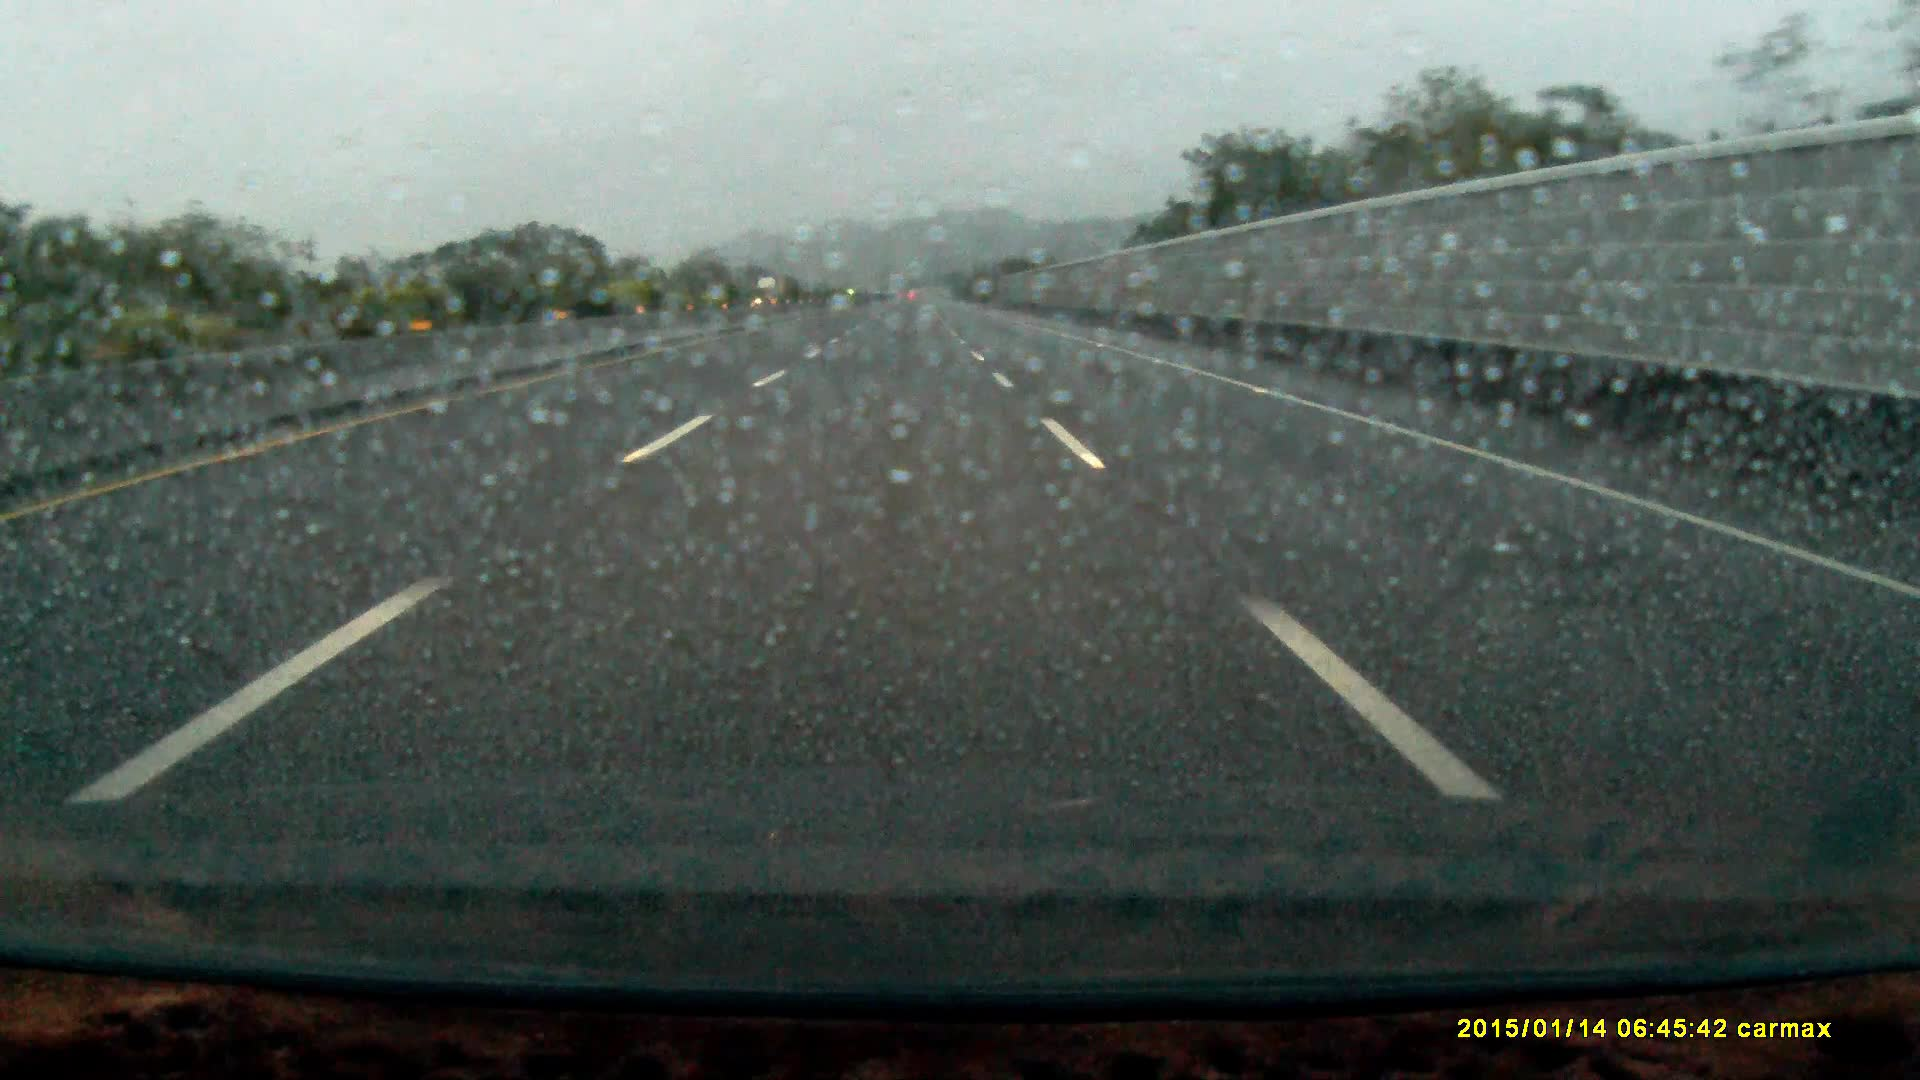vehicle: (756, 278, 785, 307)
